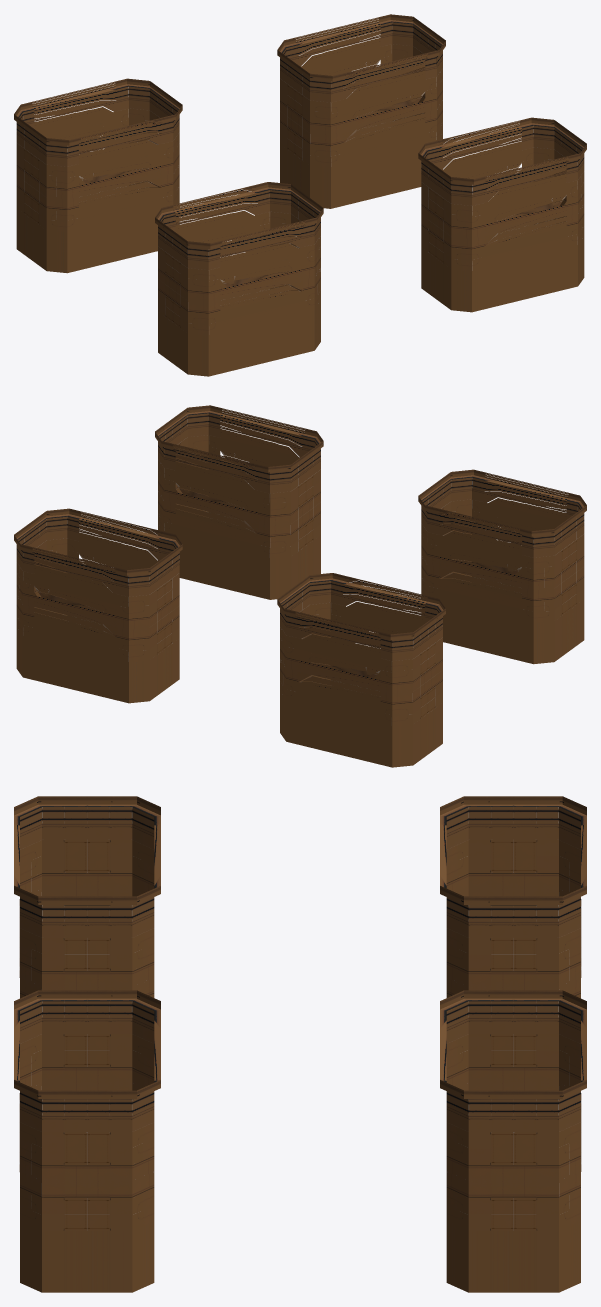
File: PlataformBaseLEgs.fbx
3 views of the same model, one above another, from view 1: azimuth 30°, elevation 25°; view 2: azimuth 150°, elevation 25°; view 3: azimuth 270°, elevation 25° (orthographic). The views are drawn at different scales.
Parts seen in each view (by area): view 1: PlataformBaseLEgs; view 2: PlataformBaseLEgs; view 3: PlataformBaseLEgs.
Part boxes in pixels (box(x1,y1,x2,y2)): PlataformBaseLEgs: box(14, 14, 586, 376); PlataformBaseLEgs: box(14, 405, 586, 767); PlataformBaseLEgs: box(14, 796, 586, 1292).
Size of the model in its own units: 5171 by 1665 by 4254.
